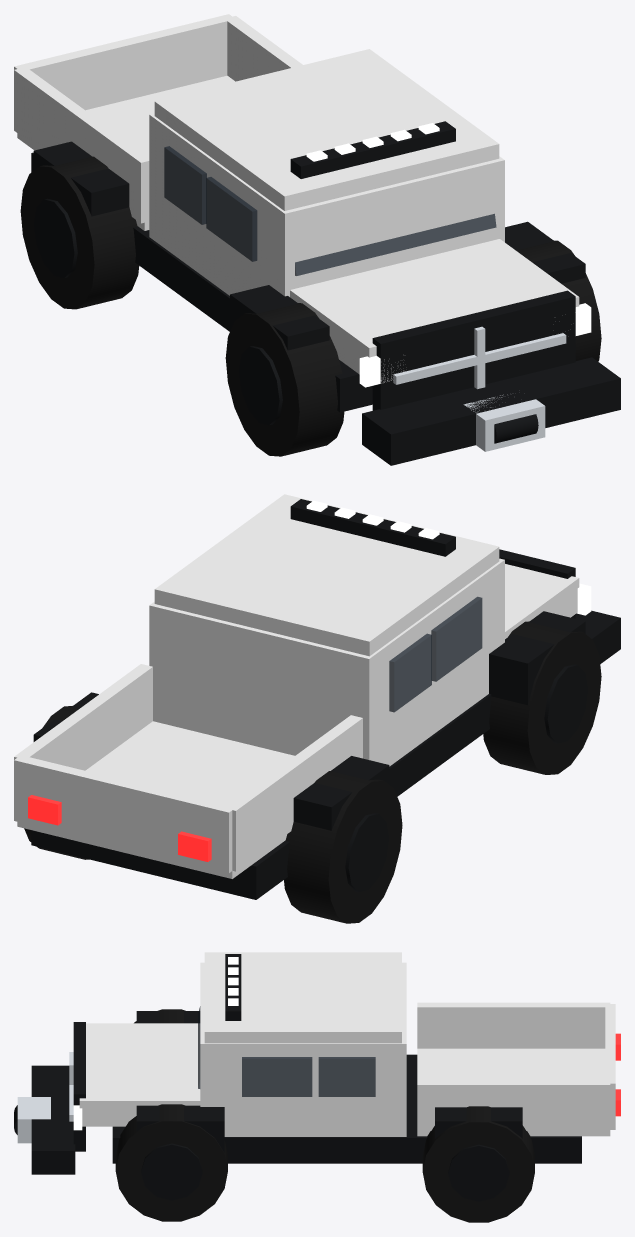
File: headbutt-mammoth.glb
3 views of the same model, one above another, from view 1: azimuth 30°, elevation 25°; view 2: azimuth 150°, elevation 25°; view 3: azimuth 270°, elevation 25° (orthographic). The views are drawn at different scales.
Visible parts, largest first — view 1: chassis, wheel-front-left, wheel-back-left, glass, wheel-front-right; view 2: chassis, wheel-back-left, wheel-front-left; view 3: chassis, wheel-back-right, wheel-front-right, wheel-front-left.
Boxes of the visible parts, x1,y1,x2,y2 form: chassis: (14,14,620,465); wheel-front-left: (225,303,344,456); wheel-back-left: (20,156,139,309); glass: (295,213,496,275); wheel-front-right: (516,240,601,361); chassis: (14,494,620,899); wheel-back-left: (284,771,402,923); wheel-front-left: (483,621,601,774); chassis: (14,952,620,1174); wheel-back-right: (422,1106,534,1222); wheel-front-right: (115,1104,227,1221); wheel-front-left: (134,1009,185,1023).
Bounding box in the file's own units: 3.15 × 2.33 × 6.92.
